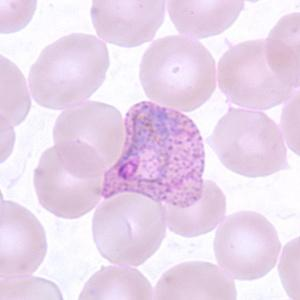Infected: (94, 93, 202, 197)
Uninfected: (190, 190, 272, 266), (0, 189, 86, 258), (8, 122, 93, 191), (83, 187, 160, 261), (173, 123, 247, 196), (138, 33, 208, 108), (197, 81, 266, 154), (19, 21, 86, 89), (134, 252, 211, 300), (74, 63, 137, 118)
